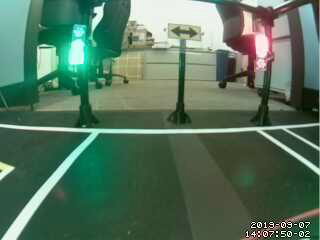Left_Right_sign: (167, 21, 203, 44)
Traffic_light_green: (70, 24, 84, 65)
Traffic_light_red: (249, 34, 271, 72)
